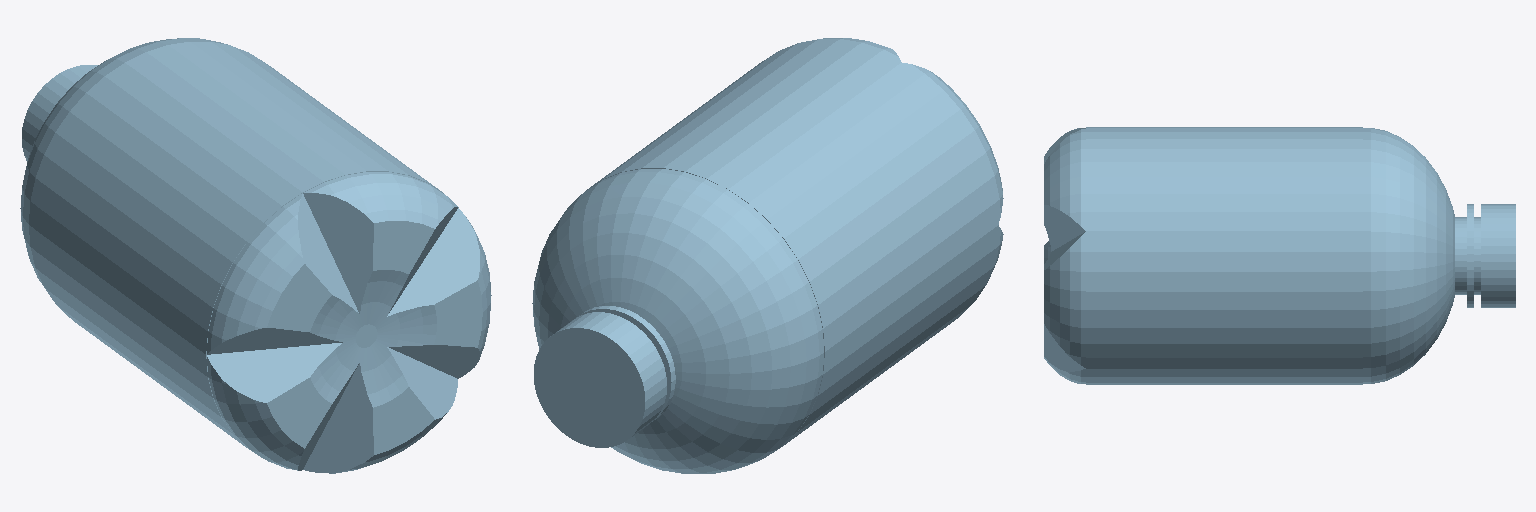
URDF robot description (object):
<?xml version="1.0"?>
<robot name="object">
  <link name="object">
    <visual>
      <origin xyz="0.0 0.0 0.0" rpy="-1.57079632679 0 0"/>
      <geometry>
        <mesh filename="water_bottle.stl" scale="0.999658 0.999658 0.805861"/>
      </geometry>
      <material name="auto_color">
        <color rgba="0.64 0.78 0.86 1.0"/>
      </material>
    </visual>
    <collision>
      <origin xyz="0.0 0.0 0.0" rpy="-1.57079632679 0 0"/>
      <geometry>
        <mesh filename="water_bottle.stl" scale="0.999658 0.999658 0.805861"/>
      </geometry>
    </collision>
  </link>
</robot>
    
                    

--- Facts derived from the render (not from the file) ---
Views: 3 orthographic renders of the robot side by side, from view 1: azimuth 30°, elevation 25°; view 2: azimuth 150°, elevation 25°; view 3: azimuth 270°, elevation 25°.
Robot: object — 1 links, 0 joints (none); root link object; default pose: all joints at 0.
Links seen in each view (by area): view 1: object; view 2: object; view 3: object.
Boxes of the visible links, <box> form: object: <box>20,38,491,473</box>; object: <box>532,38,1003,473</box>; object: <box>1044,127,1515,384</box>.
Size in the robot's own frame: 0.0602 by 0.11 by 0.0602 metres.
1 mesh visuals loaded from 1 distinct referenced files (1 binary STL).
